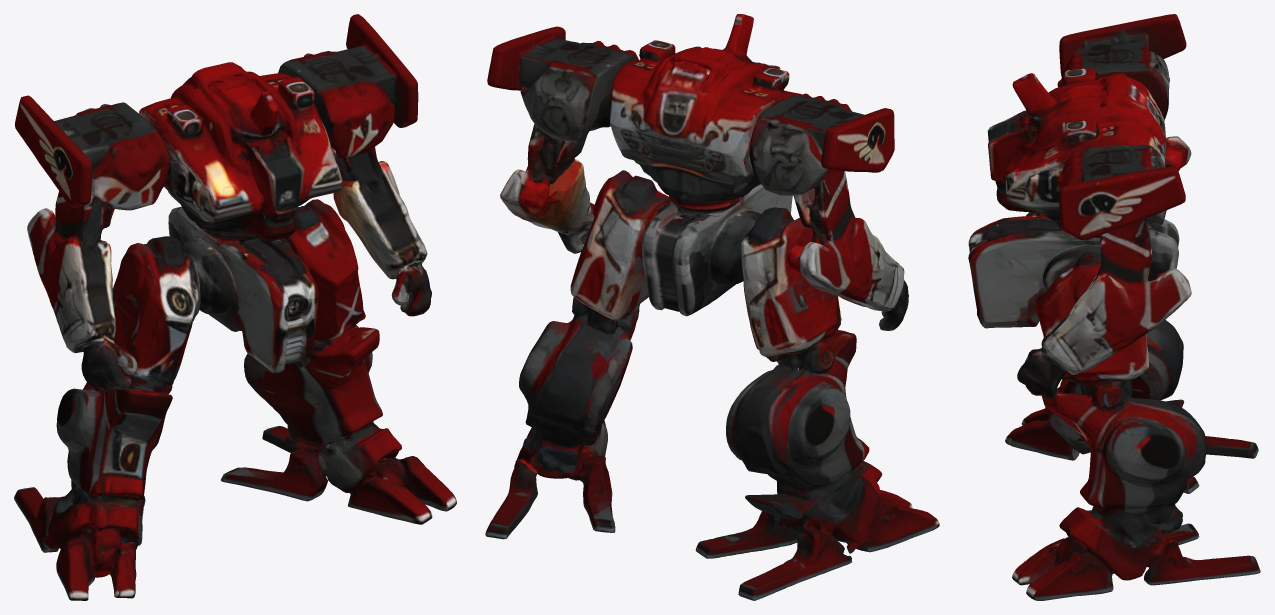
File: image3d-1780208554985-1pyqwcrhi.glb
3 views of the same model, side by side, from view 1: azimuth 30°, elevation 25°; view 2: azimuth 150°, elevation 25°; view 3: azimuth 270°, elevation 25° (orthographic). The views are drawn at different scales.
Visible parts, largest first — view 1: temp_mesh.ply; view 2: temp_mesh.ply; view 3: temp_mesh.ply.
Part boxes in pixels (x1,y1,x2,y2): temp_mesh.ply: (14, 14, 456, 600); temp_mesh.ply: (485, 14, 939, 600); temp_mesh.ply: (968, 14, 1260, 600).
Bounding box in the file's own units: 1.74 × 1.97 × 1.19.
1 material, 1 textured.
